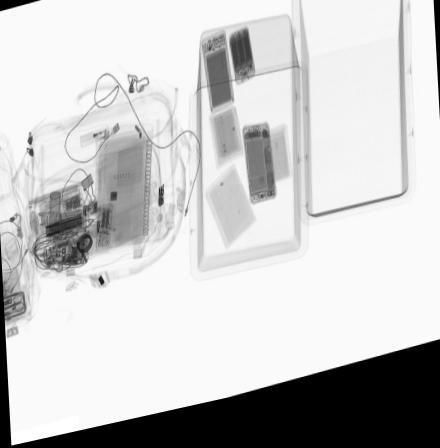Lighter: (80, 130, 110, 152)
